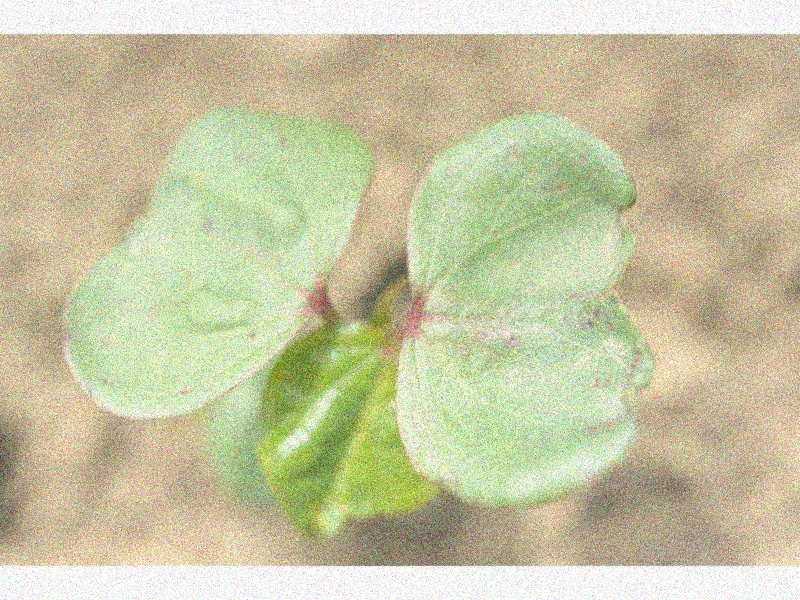cotton: (60, 108, 655, 543)
